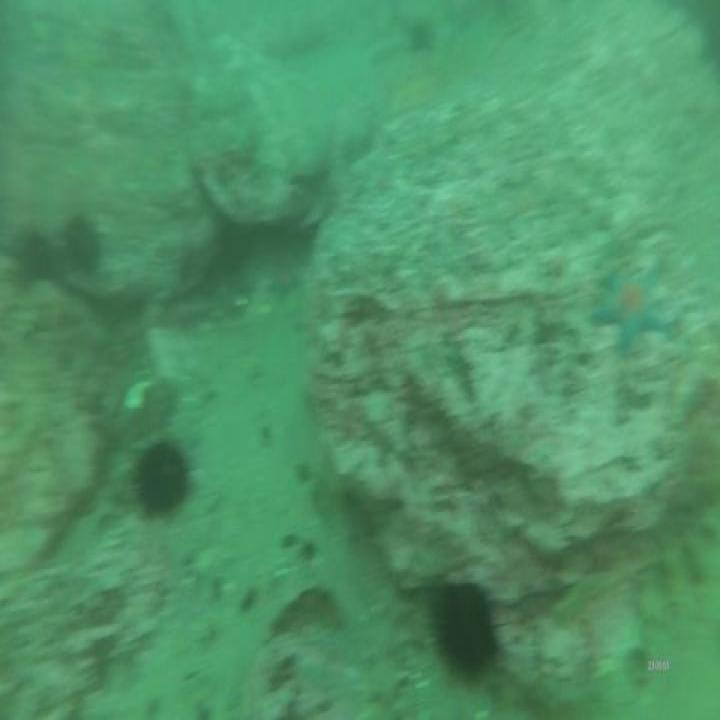echinus: (435, 576, 497, 679), (135, 437, 190, 521), (59, 208, 101, 281), (19, 224, 56, 290)
starfish: (591, 254, 672, 363)
